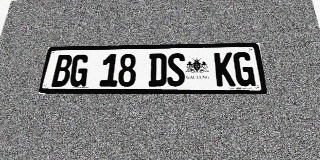1: (99, 54, 120, 87)
8: (117, 54, 137, 87)
B: (51, 55, 73, 87)
D: (148, 53, 167, 86)
G: (233, 52, 256, 86), (68, 54, 90, 87)
K: (214, 52, 236, 86)
S: (167, 53, 185, 86)
